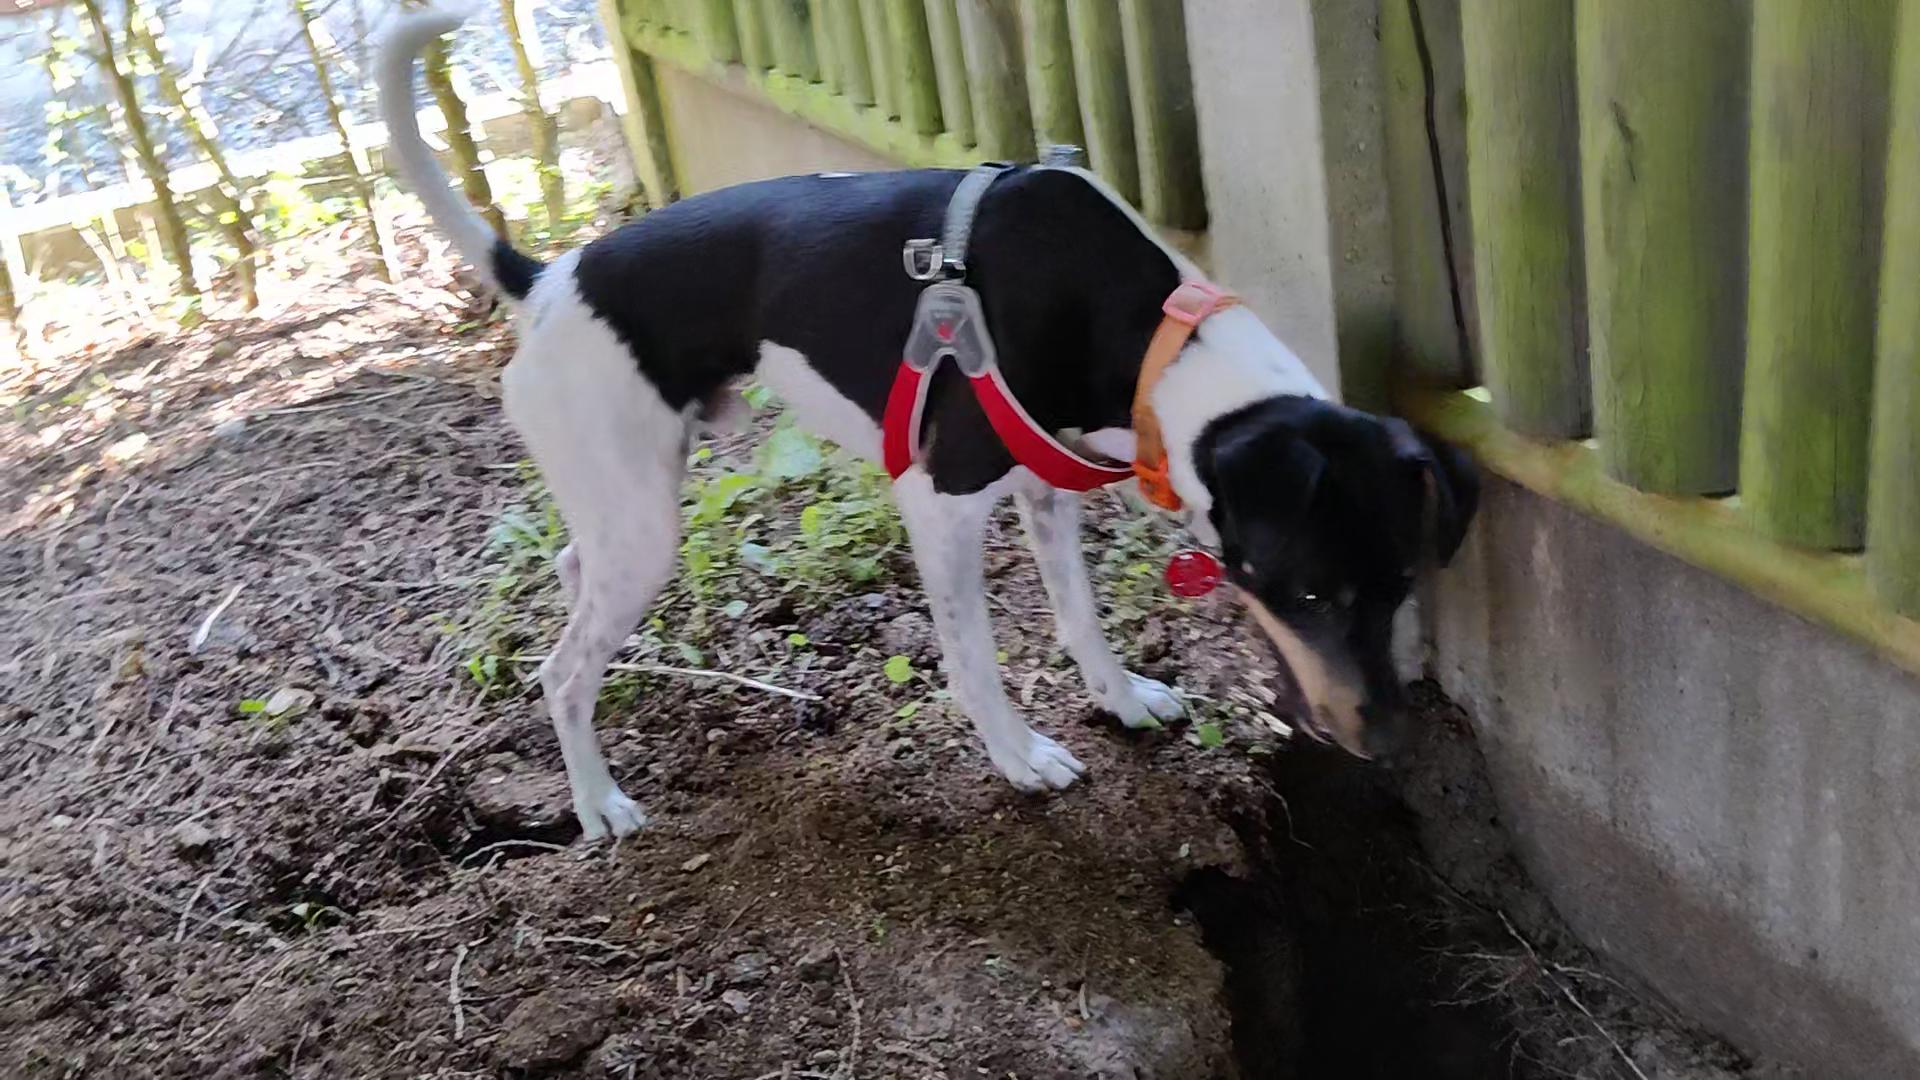Dog: (357, 0, 1516, 845)
